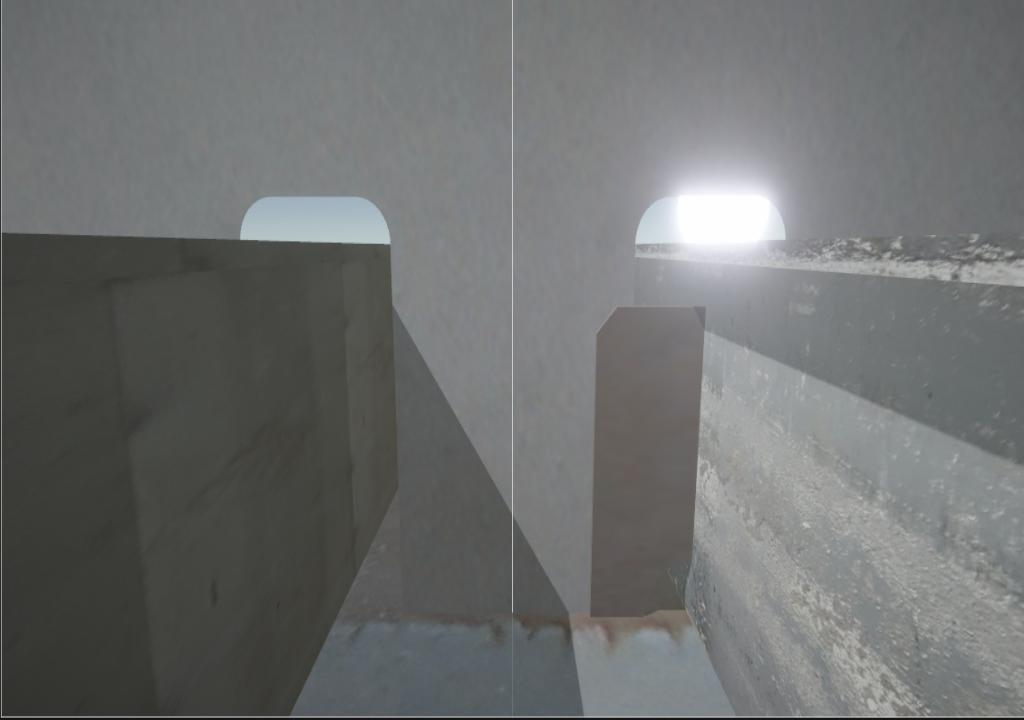fillet_yong_jeop_jang: (401, 601, 599, 618)
plate_CP04: (586, 304, 712, 618)
